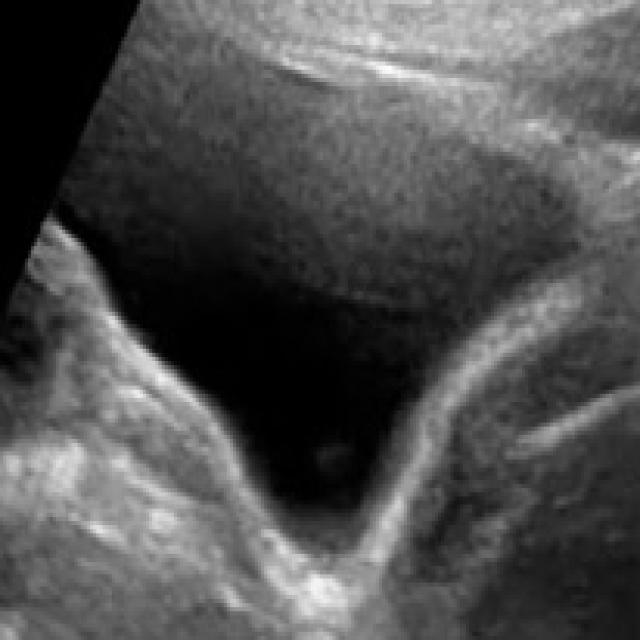bladder: (32, 5, 622, 607)
